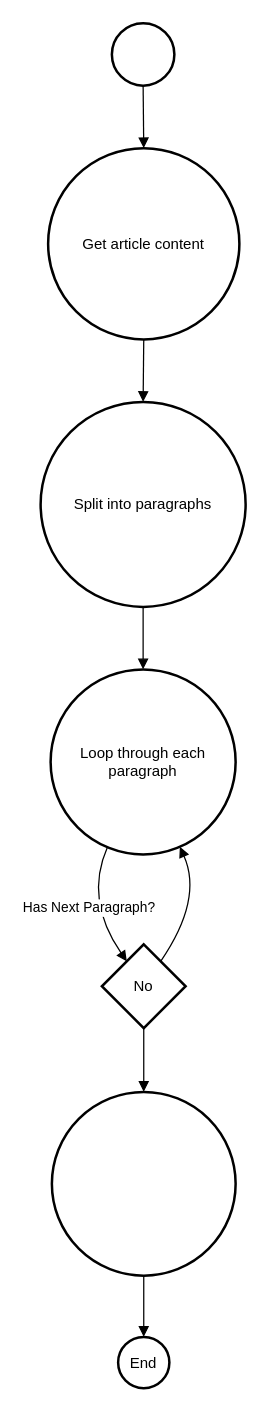
Some shapes in this 268 by 1410 pixel diagram are drawn without their labels. Here are the shapes that lost their labels. From the top down, the box of each, then its label:
(110, 21, 175, 86): Start
(50, 1090, 236, 1276): Extract Data Facts
